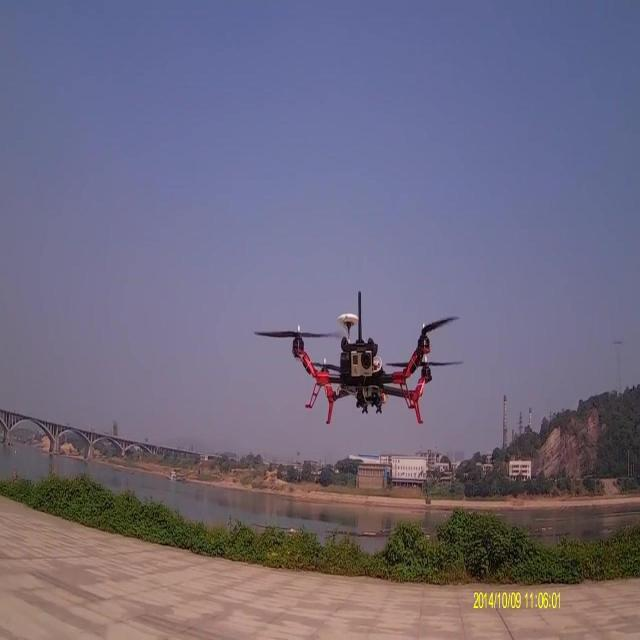drone: (258, 287, 464, 429)
